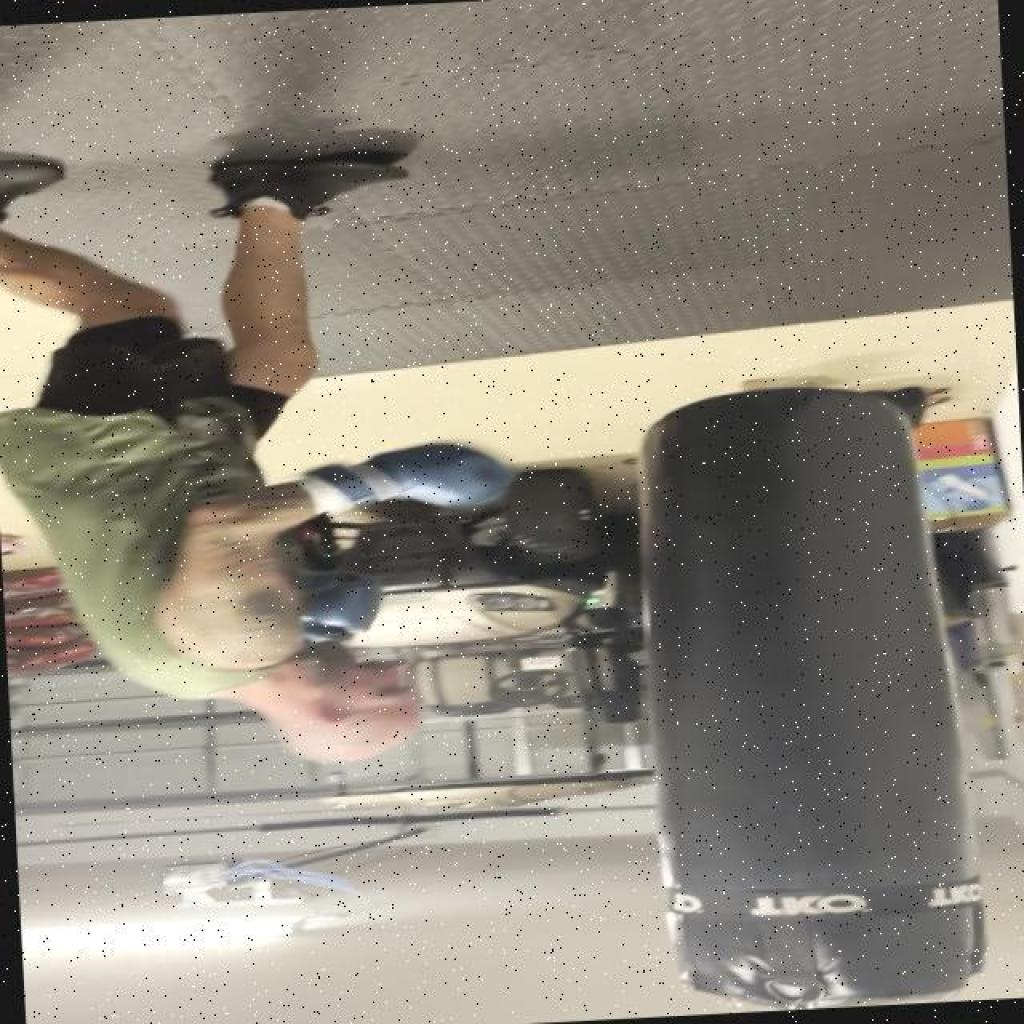bag: (622, 378, 980, 1019)
uppercut: (22, 422, 544, 784)
